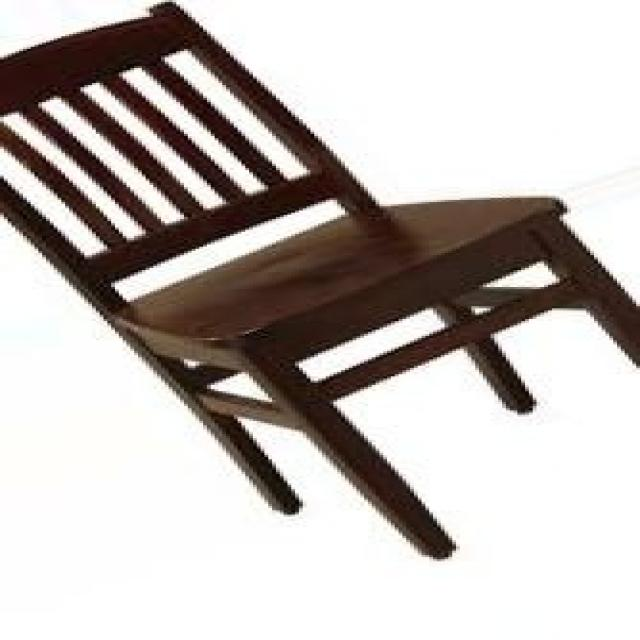Chair: (4, 2, 636, 570)
